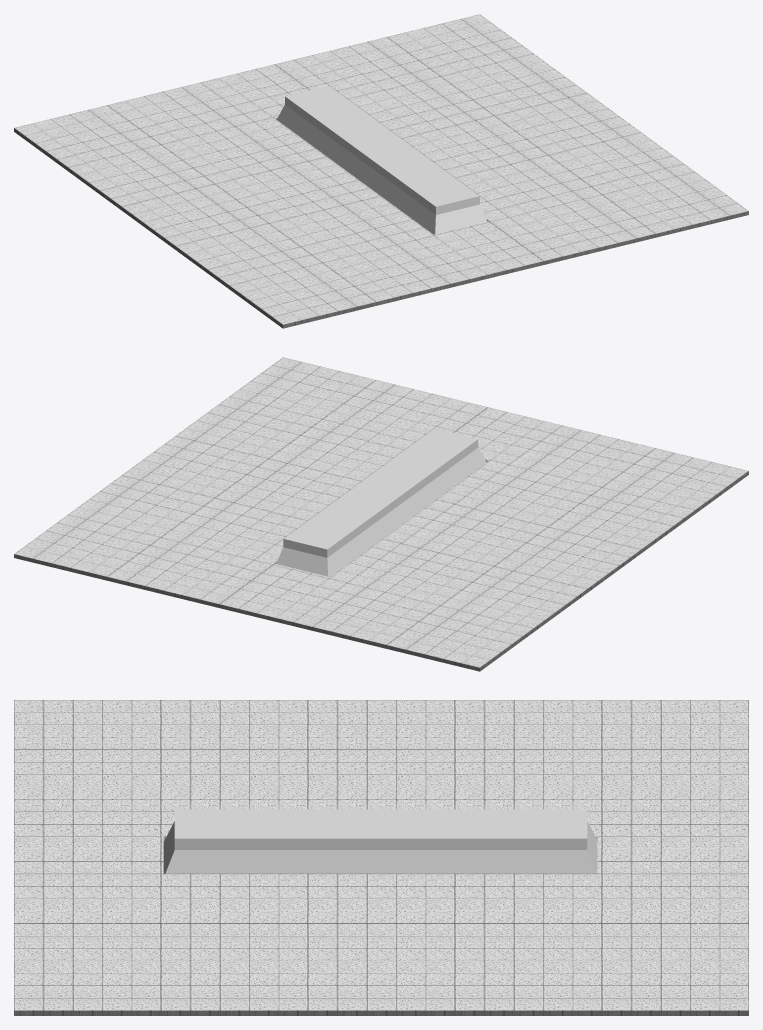
The model's file is Plafond1.FBX.
3 renders of one model, top to bottom at view 1: azimuth 30°, elevation 25°; view 2: azimuth 150°, elevation 25°; view 3: azimuth 270°, elevation 25°, orthographic. The views are drawn at different scales.
Parts seen in each view (by area): view 1: plaque, boitier; view 2: plaque, boitier; view 3: plaque, boitier.
Boxes of the visible parts, x1=… form: plaque: x1=14, y1=14, x2=748, y2=328; boitier: x1=276, y1=85, x2=487, y2=234; plaque: x1=14, y1=357, x2=748, y2=671; boitier: x1=276, y1=428, x2=486, y2=576; plaque: x1=14, y1=700, x2=748, y2=1015; boitier: x1=163, y1=809, x2=597, y2=873.
Bounding box in the file's own units: 500 × 32.42 × 500.
Materials: 1 (1 with a texture image).
